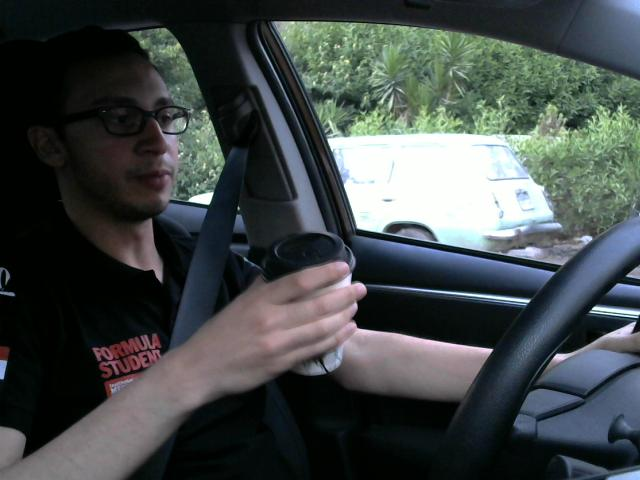Drinking: (257, 227, 355, 379)
